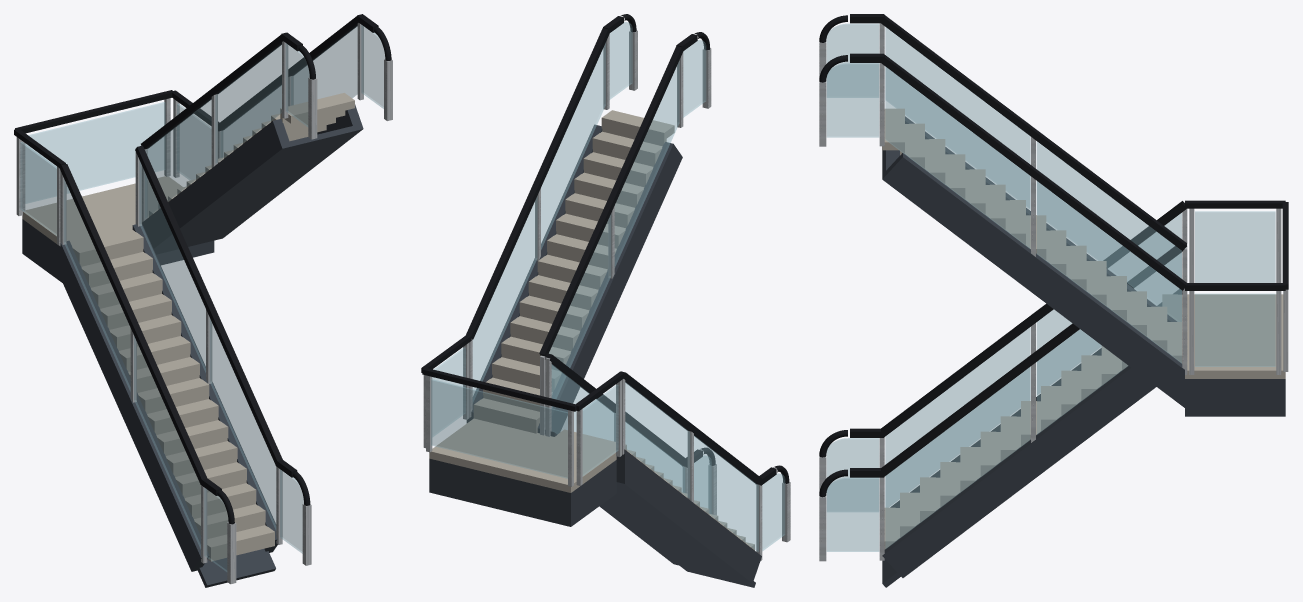
The model's file is stair-right180.glb.
3 renders of one model, left to right at view 1: azimuth 30°, elevation 25°; view 2: azimuth 150°, elevation 25°; view 3: azimuth 270°, elevation 25°, orthographic. The views are drawn at different scales.
Visible parts, largest first — view 1: StairRight180, stair-stringer (×4), stair-landing, stair-riser (×15), stair-soffit (×2), stair-landing-surface, stair-tread (×5), stair-landing-frame; view 2: StairRight180, stair-landing, stair-stringer (×3), stair-riser (×15), stair-landing-surface, stair-landing-frame, stair-soffit, stair-tread (×5); view 3: StairRight180, stair-stringer (×3), stair-landing, stair-tread (×22), stair-landing-surface, stair-landing-frame.
Boxes of the visible parts, x1,y1,x2,y2 form: StairRight180: (59, 14, 392, 584); stair-stringer (×4): (60, 104, 363, 571); stair-landing: (14, 90, 219, 245); stair-riser (×15): (77, 236, 274, 561); stair-soffit (×2): (155, 125, 356, 587); stair-landing-surface: (22, 176, 182, 246); stair-tread (×5): (72, 93, 354, 426); stair-landing-frame: (22, 219, 214, 282); StairRight180: (466, 14, 790, 560); stair-landing: (421, 335, 624, 486); stair-stringer (×3): (466, 124, 761, 583); stair-riser (×15): (473, 116, 666, 433); stair-landing-surface: (429, 418, 616, 492); stair-landing-frame: (429, 458, 616, 526); stair-soffit: (602, 476, 755, 587); stair-tread (×5): (475, 110, 674, 425); StairRight180: (819, 14, 1187, 561); stair-stringer (×3): (882, 116, 1184, 577); stair-landing: (1185, 200, 1288, 374); stair-tread (×22): (882, 108, 1164, 534); stair-landing-surface: (1185, 294, 1285, 378); stair-landing-frame: (1185, 379, 1285, 416).
Size of the model in its own units: 2 by 6.31 by 4.65.
Materials: 5 (1 with a texture image).
